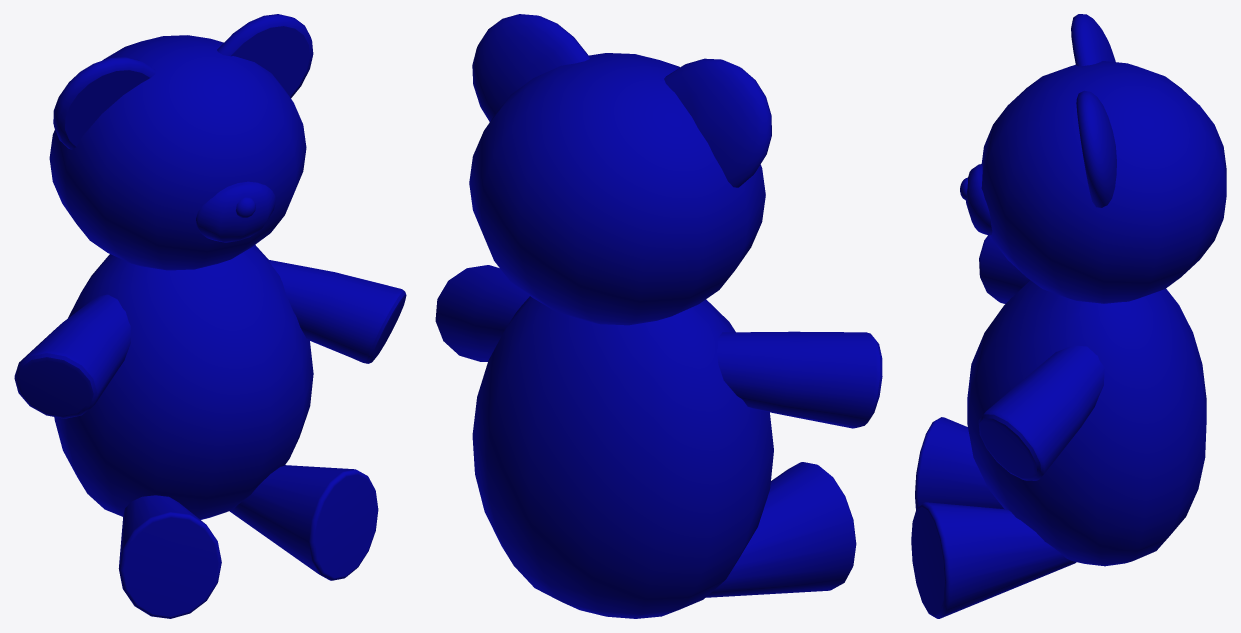
The model's file is Marble_Type04_Teddy.fbx.
3 renders of one model, left to right at view 1: azimuth 30°, elevation 25°; view 2: azimuth 150°, elevation 25°; view 3: azimuth 270°, elevation 25°, orthographic. The views are drawn at different scales.
Parts seen in each view (by area): view 1: Marble_Type04_Teddy; view 2: Marble_Type04_Teddy; view 3: Marble_Type04_Teddy.
Part boxes in pixels (x1,y1,x2,y2): Marble_Type04_Teddy: [14, 14, 406, 618]; Marble_Type04_Teddy: [435, 14, 882, 618]; Marble_Type04_Teddy: [911, 14, 1226, 618].
Size of the model in its own units: 66.97 by 84.34 by 46.53.
